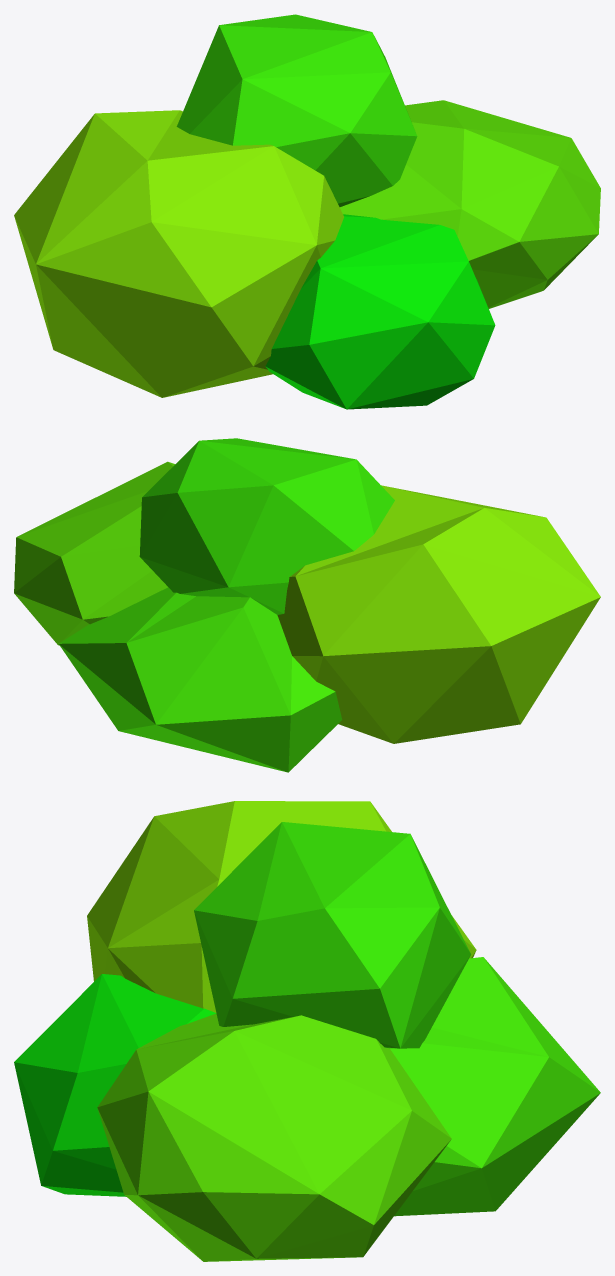
File: bush2.fbx
3 views of the same model, one above another, from view 1: azimuth 30°, elevation 25°; view 2: azimuth 150°, elevation 25°; view 3: azimuth 270°, elevation 25° (orthographic). The views are drawn at different scales.
Parts seen in each view (by area): view 1: Icosphere.022; view 2: Icosphere.022; view 3: Icosphere.022.
Part boxes in pixels (x1,y1,x2,y2): Icosphere.022: [14, 14, 600, 409]; Icosphere.022: [14, 438, 600, 772]; Icosphere.022: [14, 801, 600, 1261].
Bounding box in the file's own units: 166 × 80.54 × 127.
